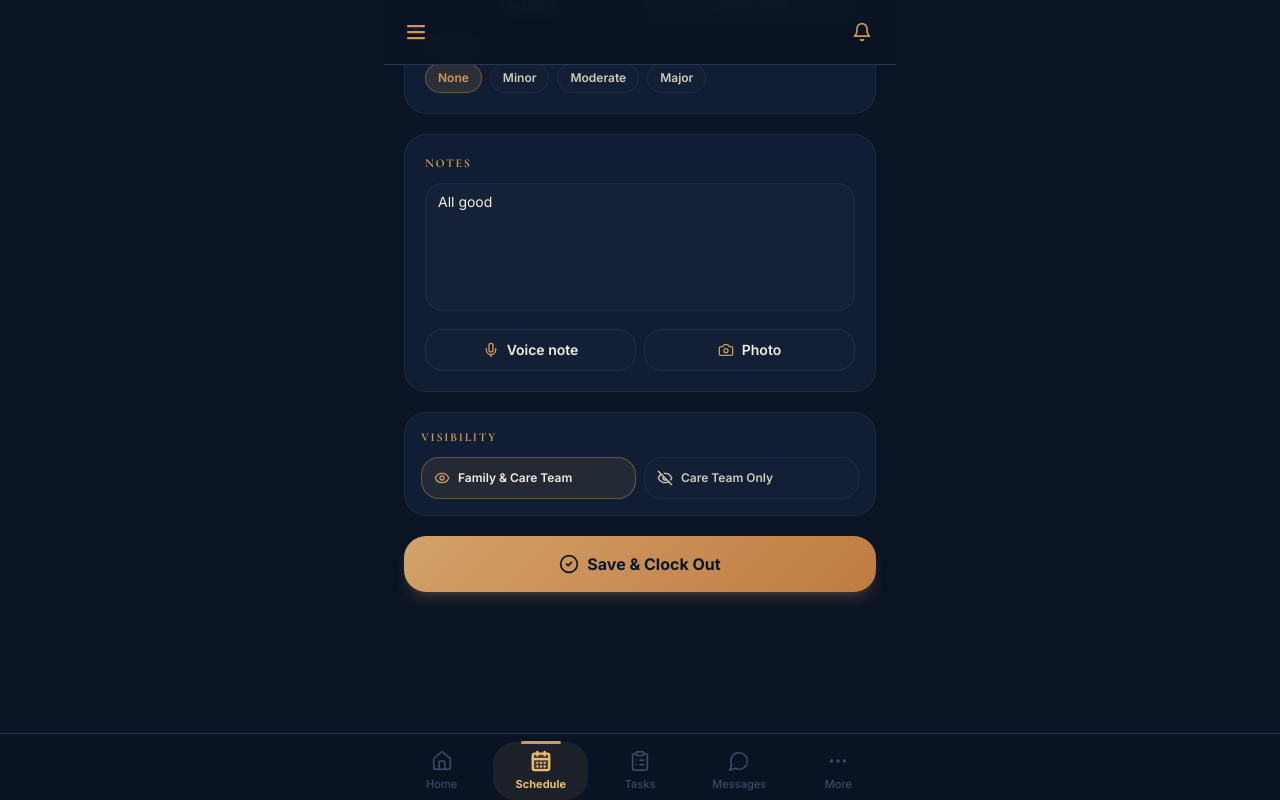
Scenario: CareNotesPage — GPS verification on Save & Clock Out › blocks clock-out when GPS accuracy is below threshold
(page scrolled)
Click the button "Save & Clock Out" at (640, 564), box [404, 536, 876, 592]
(page scrolled)
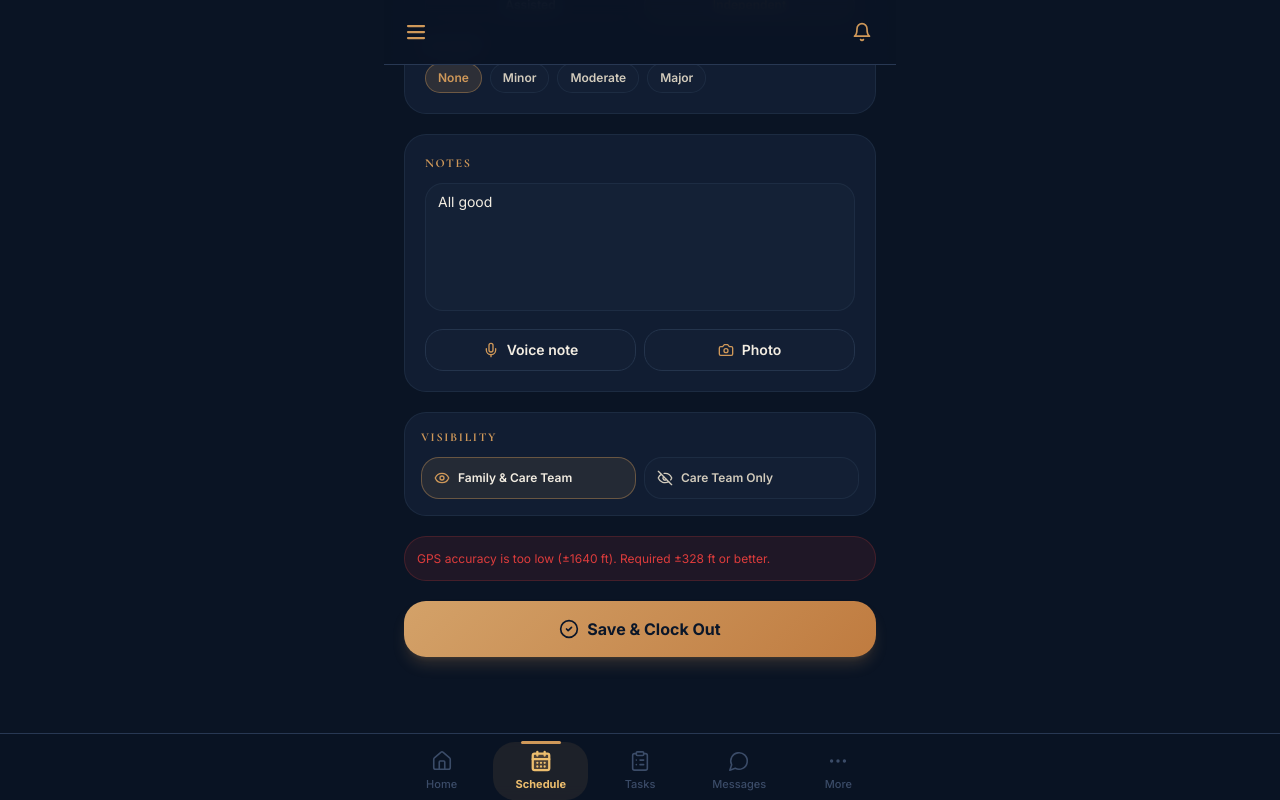
expect the text "GPS accuracy is too low" is shown: met, box [417, 550, 770, 566]
